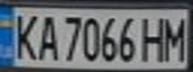0: (78, 14, 103, 62)
6: (115, 14, 142, 63), (100, 14, 121, 63)
7: (57, 12, 81, 62)
A: (33, 11, 60, 61)
H: (139, 14, 169, 63)
K: (6, 10, 42, 61)
M: (157, 12, 190, 62)
